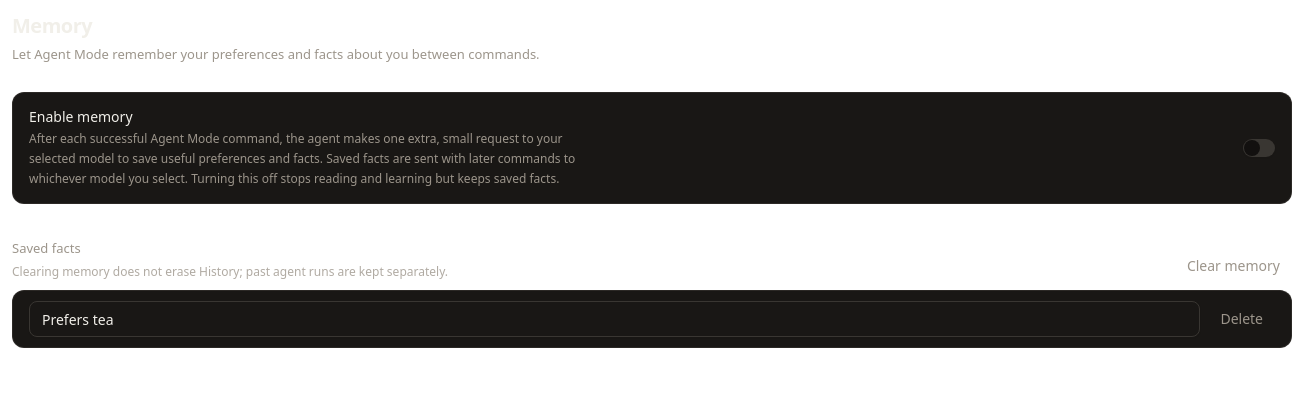
Test: MemorySettings › preserves typing and shows a conflict when learning replaces or removes an edited fact
Replace the text in the field named "Fact 1" with "My unsaved preference" at (615, 319), box [29,301,1200,337]
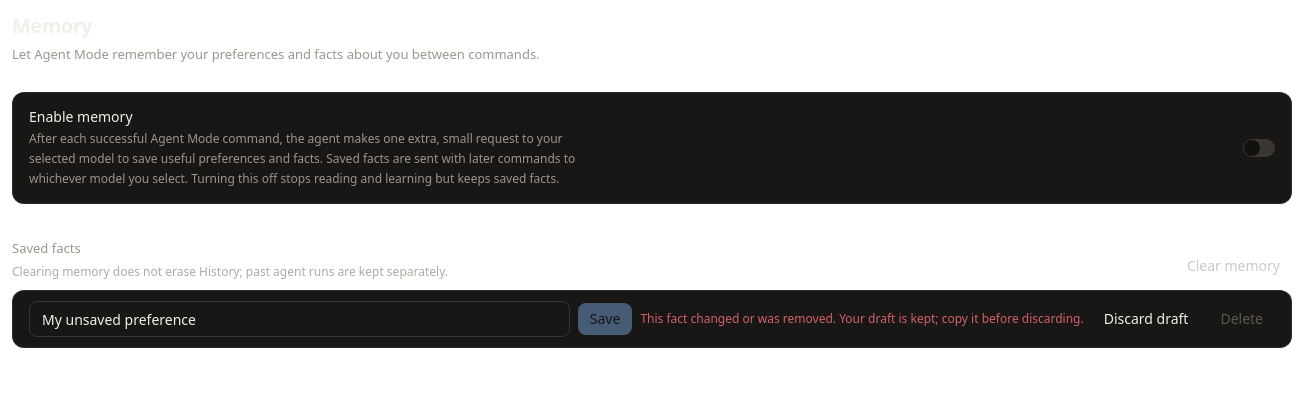
expect the message shows "This fact changed or was removed": met, box [640,310,1084,327]
expect the button "Save" is disabled: met, box [578,303,632,335]
Click the button "Discard draft".
click(1146, 319)  # box [1092,303,1200,335]
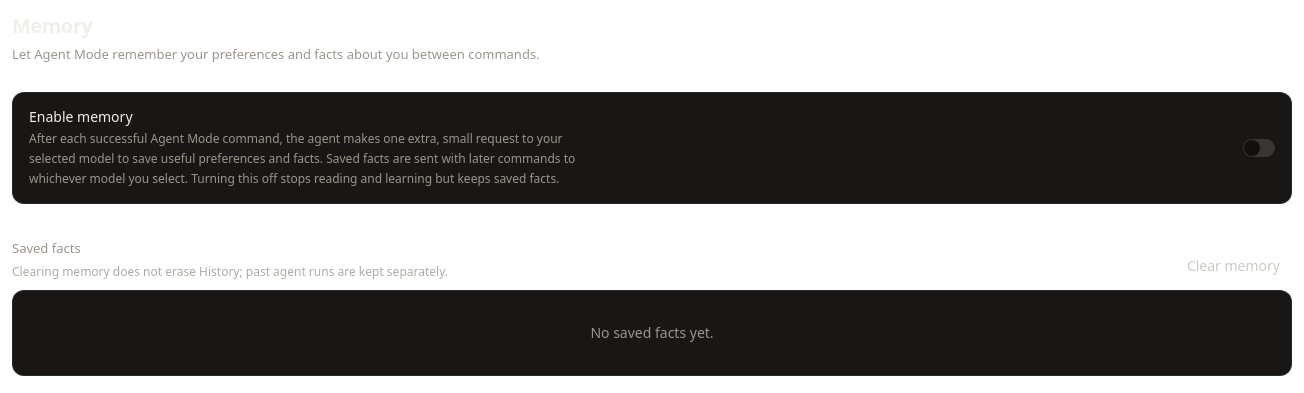
expect the text "No saved facts yet." is shown: met, box [12,290,1292,376]
